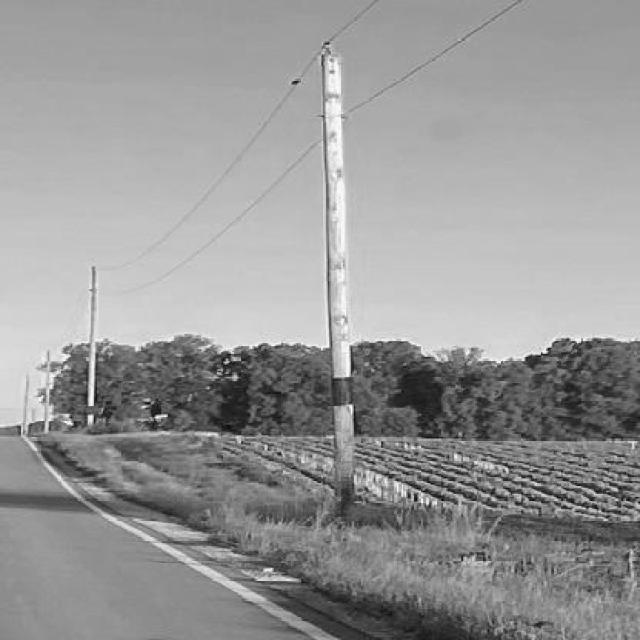Pole: (321, 48, 355, 510), (86, 265, 96, 428)
